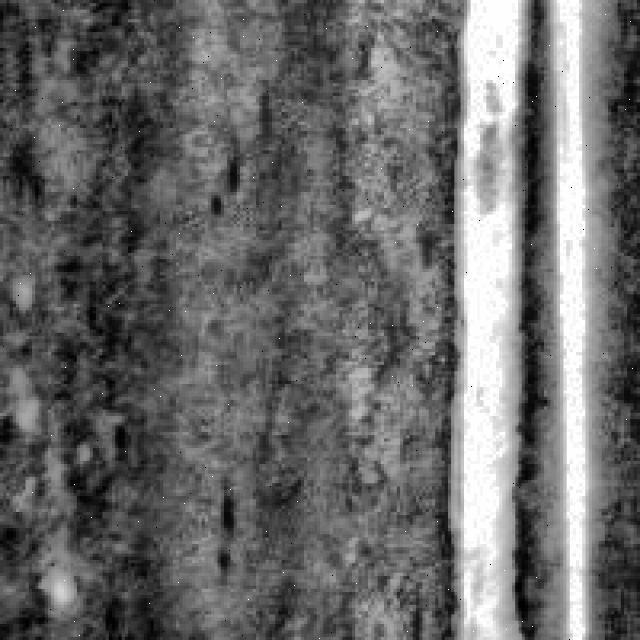Inclusion: (451, 0, 538, 634), (554, 0, 598, 634)
Patches: (211, 483, 250, 573)
